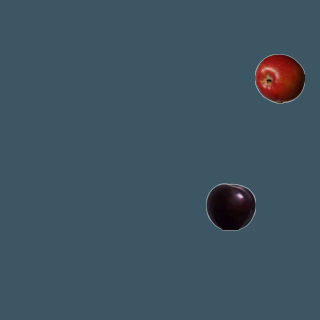Apple Braeburn: (254, 53, 304, 103)
Cherry Wax Black: (205, 181, 255, 231)
